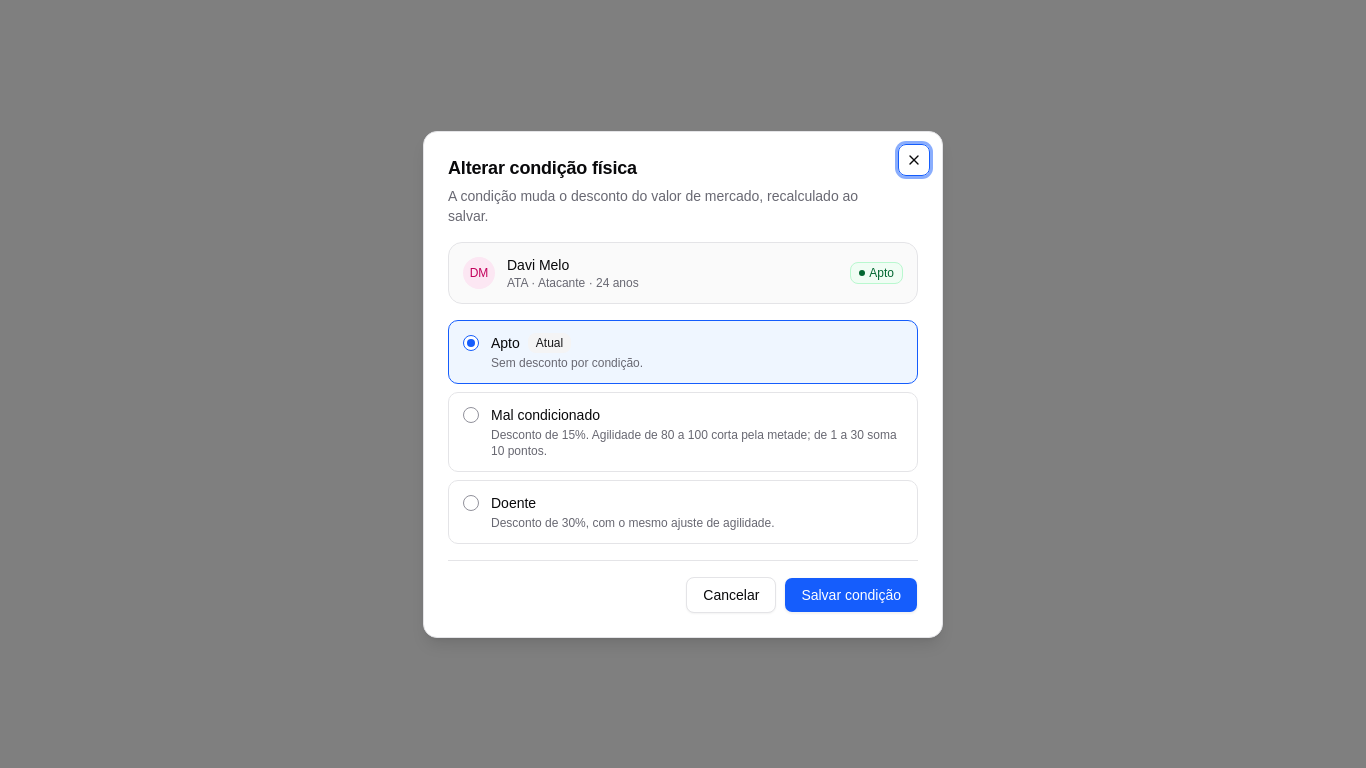
Test: ConditionDialog › avisa quando titular passa a Doente
Step 1. Click the radio button named "Doente" next to "Doente" → (471, 502), box [463,494,479,510]
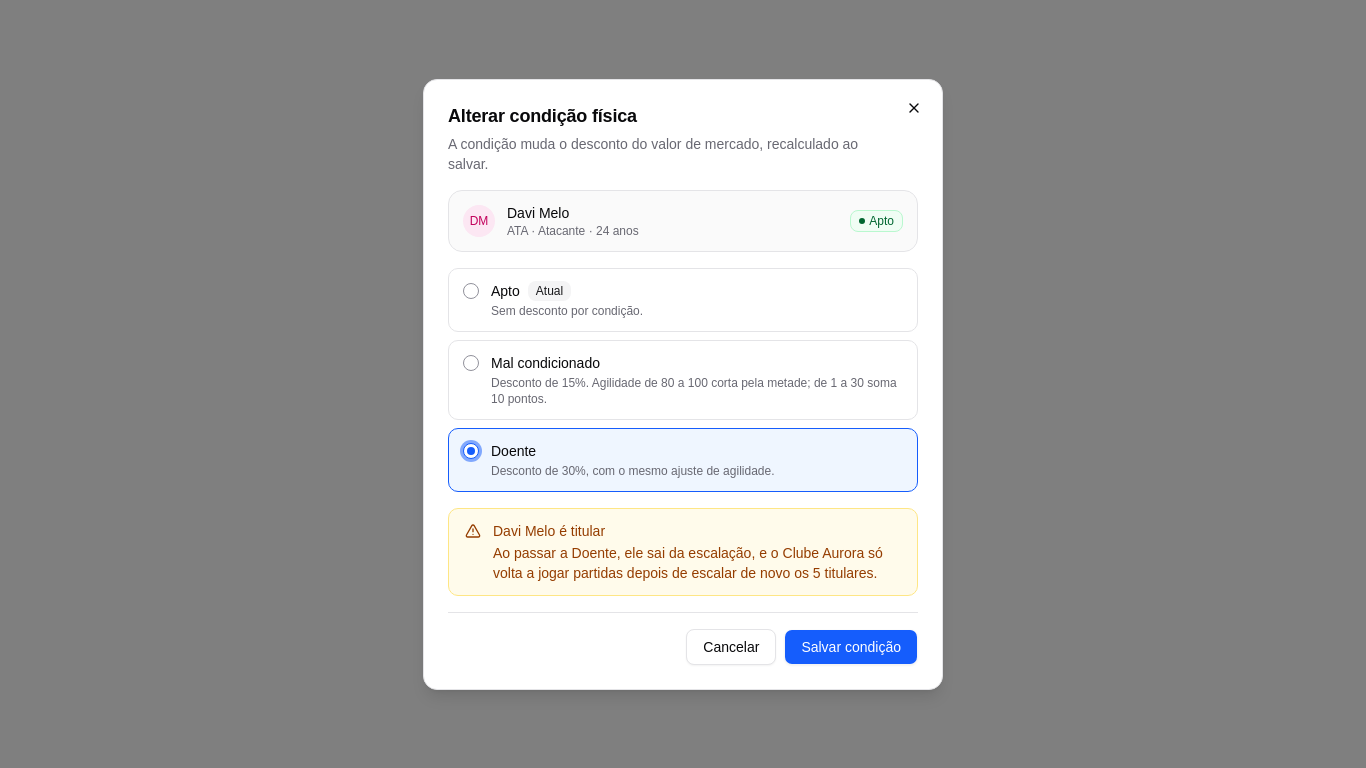
Expected: the text "Davi Melo é titular" is shown, [493,522,605,538]
Expected: the text "sai da escalação" is shown, [493,544,883,580]
